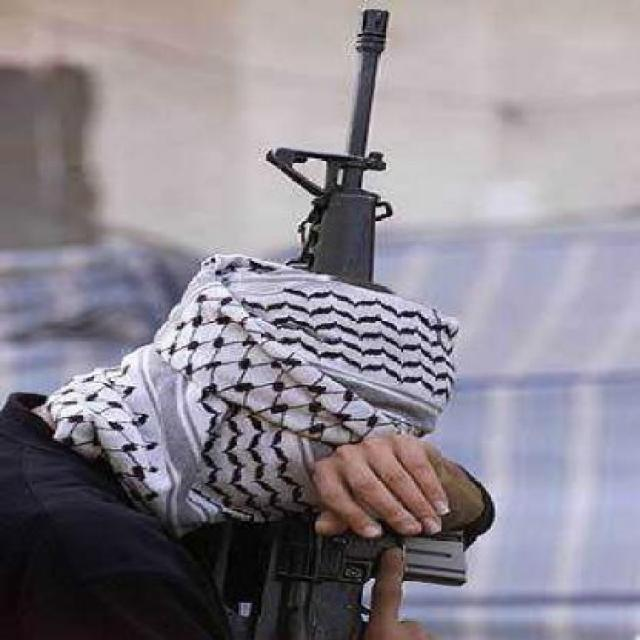weapon: (266, 8, 400, 640)
